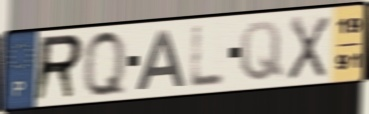A: (133, 28, 187, 93)
L: (187, 23, 227, 90)
Q: (81, 28, 129, 100), (238, 19, 286, 84)
R: (31, 31, 86, 105)
X: (285, 14, 332, 83)
